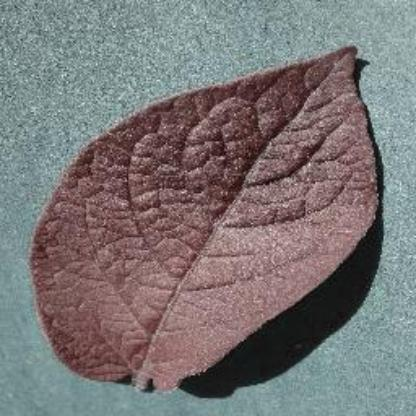Healthy-plant: (30, 44, 395, 402)
